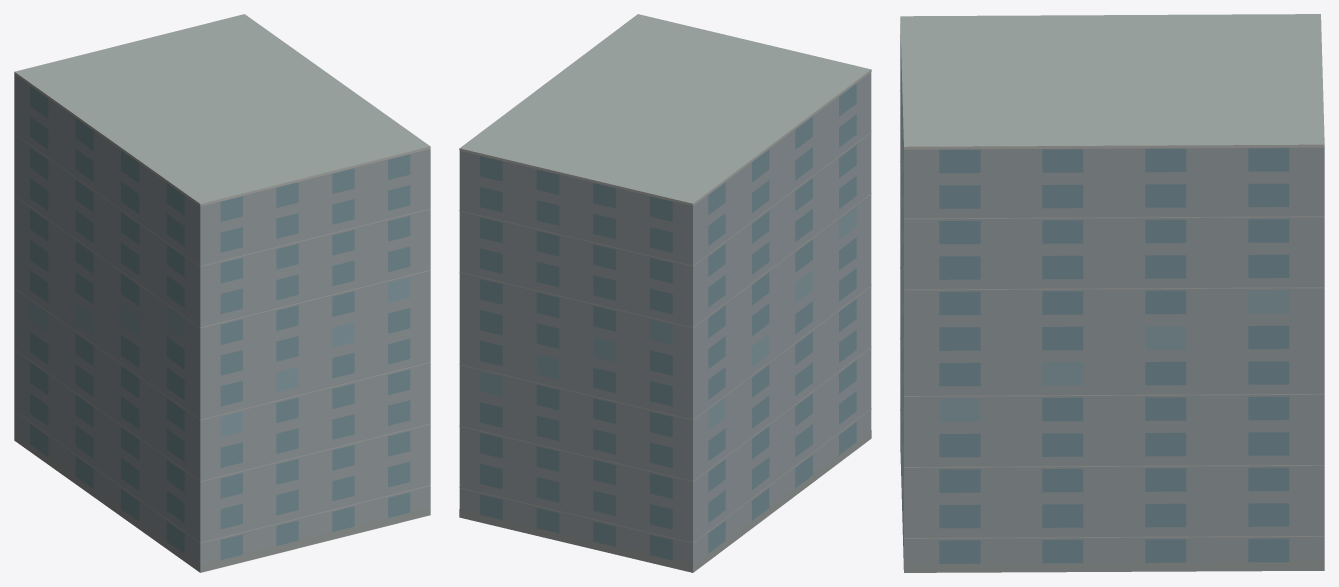
The model's file is residential-30f36766-8fbf-4c66-b49e-d1f71095c068.glb.
The picture shows the model from 3 angles, left to right: view 1: azimuth 30°, elevation 25°; view 2: azimuth 150°, elevation 25°; view 3: azimuth 270°, elevation 25°; orthographic projection. The views are drawn at different scales.
Parts seen in each view (by area): view 1: residential-30f36766-8fbf-4c66-b49e-d1f71095c068.tmp; view 2: residential-30f36766-8fbf-4c66-b49e-d1f71095c068.tmp; view 3: residential-30f36766-8fbf-4c66-b49e-d1f71095c068.tmp.
Part boxes in pixels (x1,y1,x2,y2): residential-30f36766-8fbf-4c66-b49e-d1f71095c068.tmp: (14, 14, 430, 572); residential-30f36766-8fbf-4c66-b49e-d1f71095c068.tmp: (459, 14, 871, 572); residential-30f36766-8fbf-4c66-b49e-d1f71095c068.tmp: (900, 14, 1324, 572).
Size of the model in its own units: 24.49 by 36.6 by 33.07.
